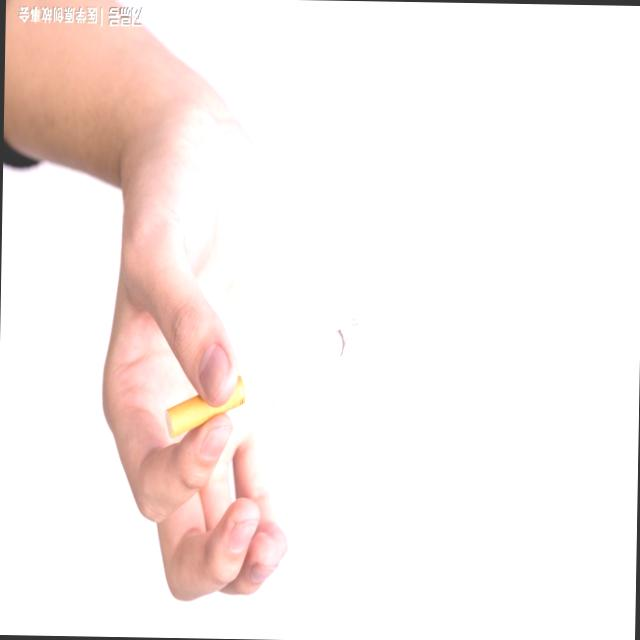smoke: (160, 316, 378, 438)
